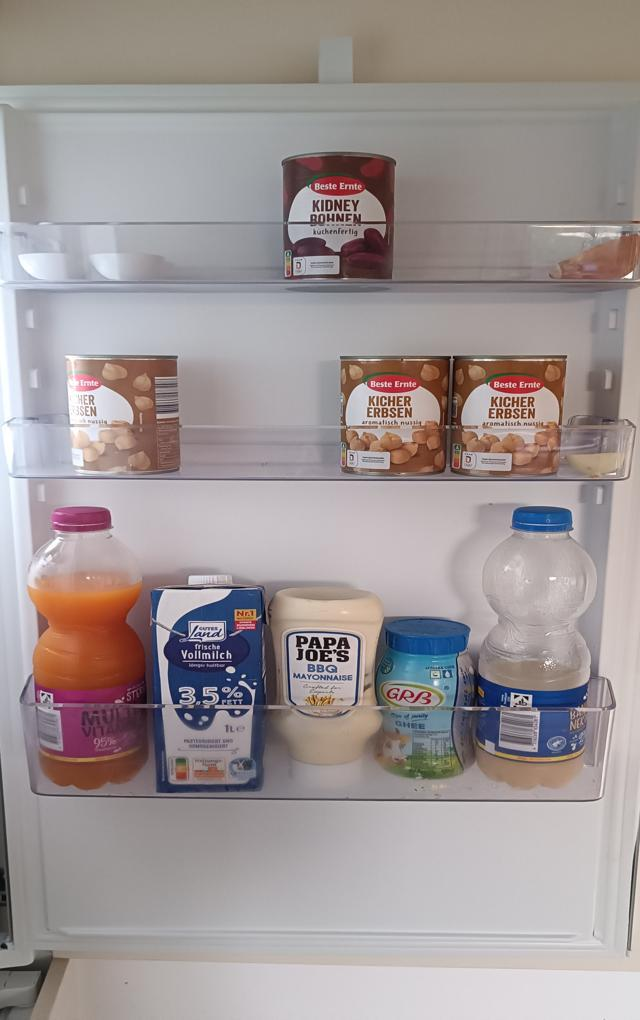bananajuice: (481, 504, 598, 787)
chickpeas: (63, 353, 182, 477), (341, 354, 450, 478), (457, 355, 566, 476)
ghee: (376, 617, 478, 782)
kidneybeans: (285, 151, 395, 294)
mayoniasie: (266, 586, 385, 788)
milk: (149, 575, 270, 798)
orangejuice: (28, 505, 149, 794)
